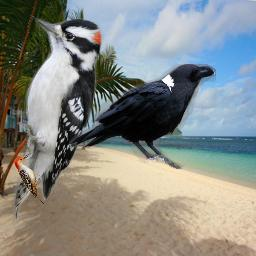Crow: (69, 64, 216, 170)
Woodpecker: (12, 9, 111, 221), (14, 154, 44, 205)
